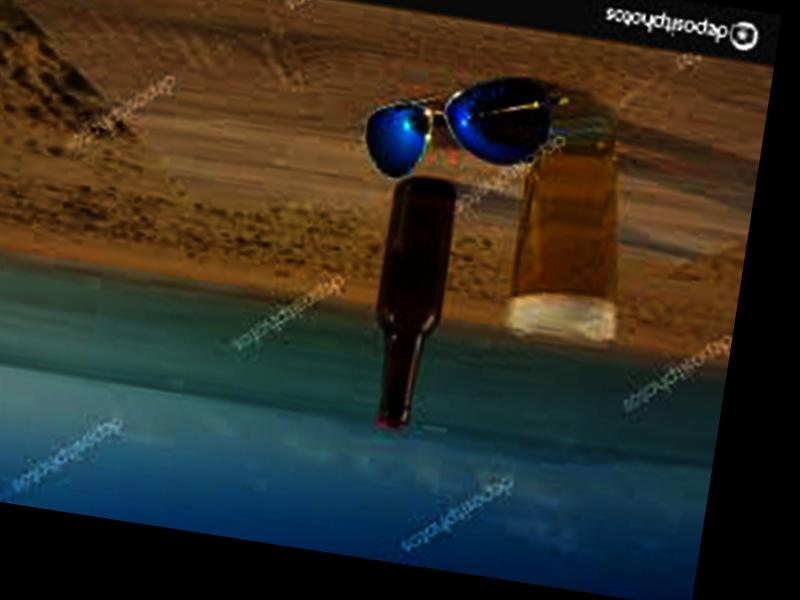Beer: (358, 176, 459, 433)
